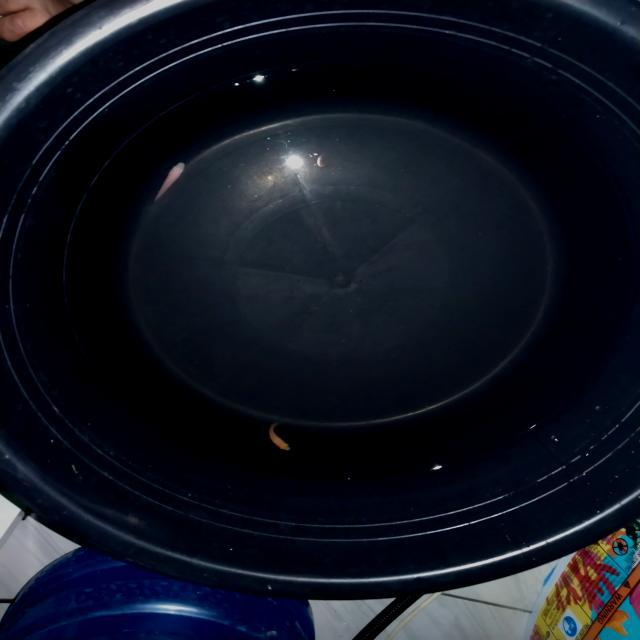nila: (148, 160, 190, 208), (264, 418, 294, 456)
